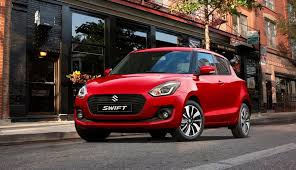Swift: (71, 44, 252, 138)
